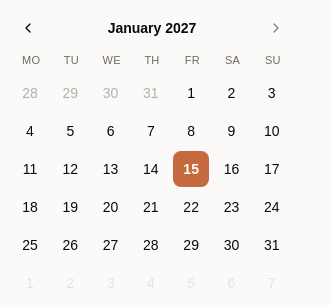
choosing a day › crosses a year boundary without confusing the month heading
Expected: the text with test id "calendar-month" reads "January 2027", left=108, top=18, right=196, bottom=38
Click the button with test id "calendar-previous-month": x=28, y=28 left=12, top=12, right=44, bottom=44
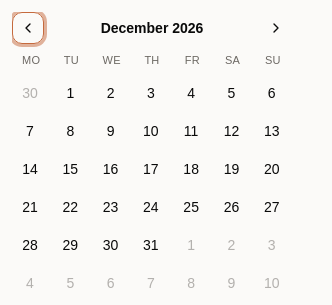
Now the text with test id "calendar-month" reads "December 2026", box left=101, top=18, right=203, bottom=38
